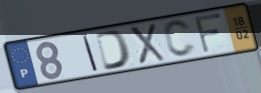8: (34, 40, 65, 81)
C: (162, 19, 199, 59)
D: (94, 28, 133, 72)
F: (192, 11, 224, 56)
I: (81, 34, 100, 72)
X: (127, 22, 168, 66)
